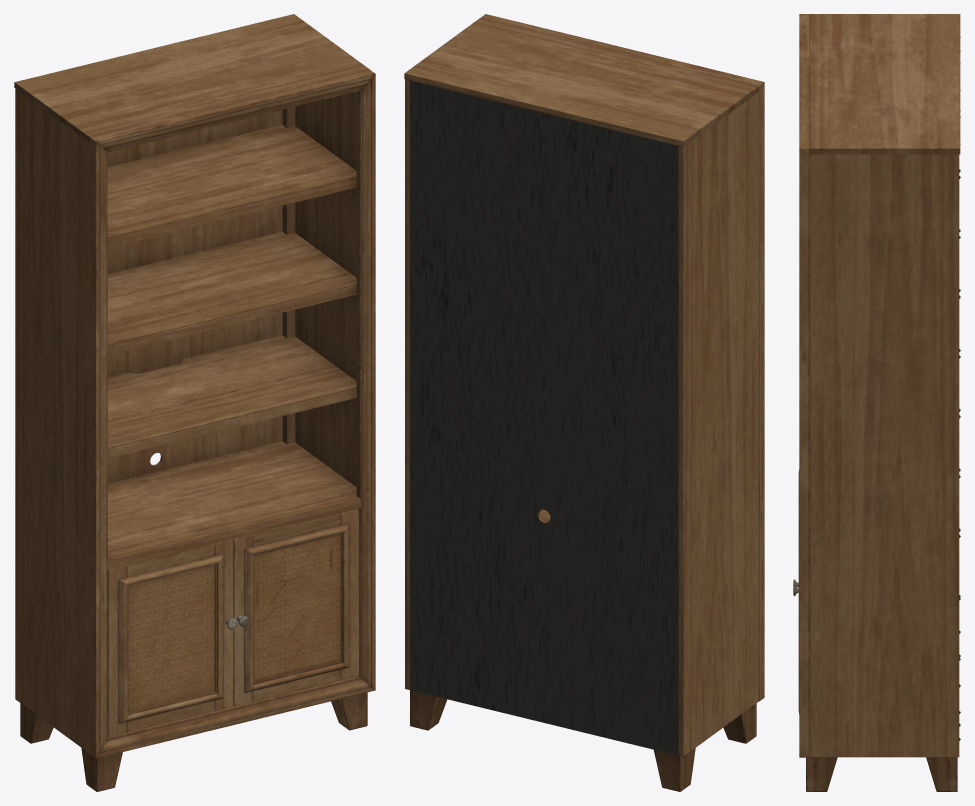
The model's file is B07B7J2VCD.glb.
3 renders of one model, left to right at view 1: azimuth 30°, elevation 25°; view 2: azimuth 150°, elevation 25°; view 3: azimuth 270°, elevation 25°, orthographic.
Parts seen in each view (by area): view 1: RootNode; view 2: RootNode; view 3: RootNode.
Boxes of the visible parts, bbox=[...] form: RootNode: bbox=[14, 14, 375, 791]; RootNode: bbox=[404, 14, 764, 791]; RootNode: bbox=[793, 14, 960, 791].
Size of the model in its own units: 0.8636 by 1.93 by 0.4528.
Materials: 1 (1 with a texture image).
